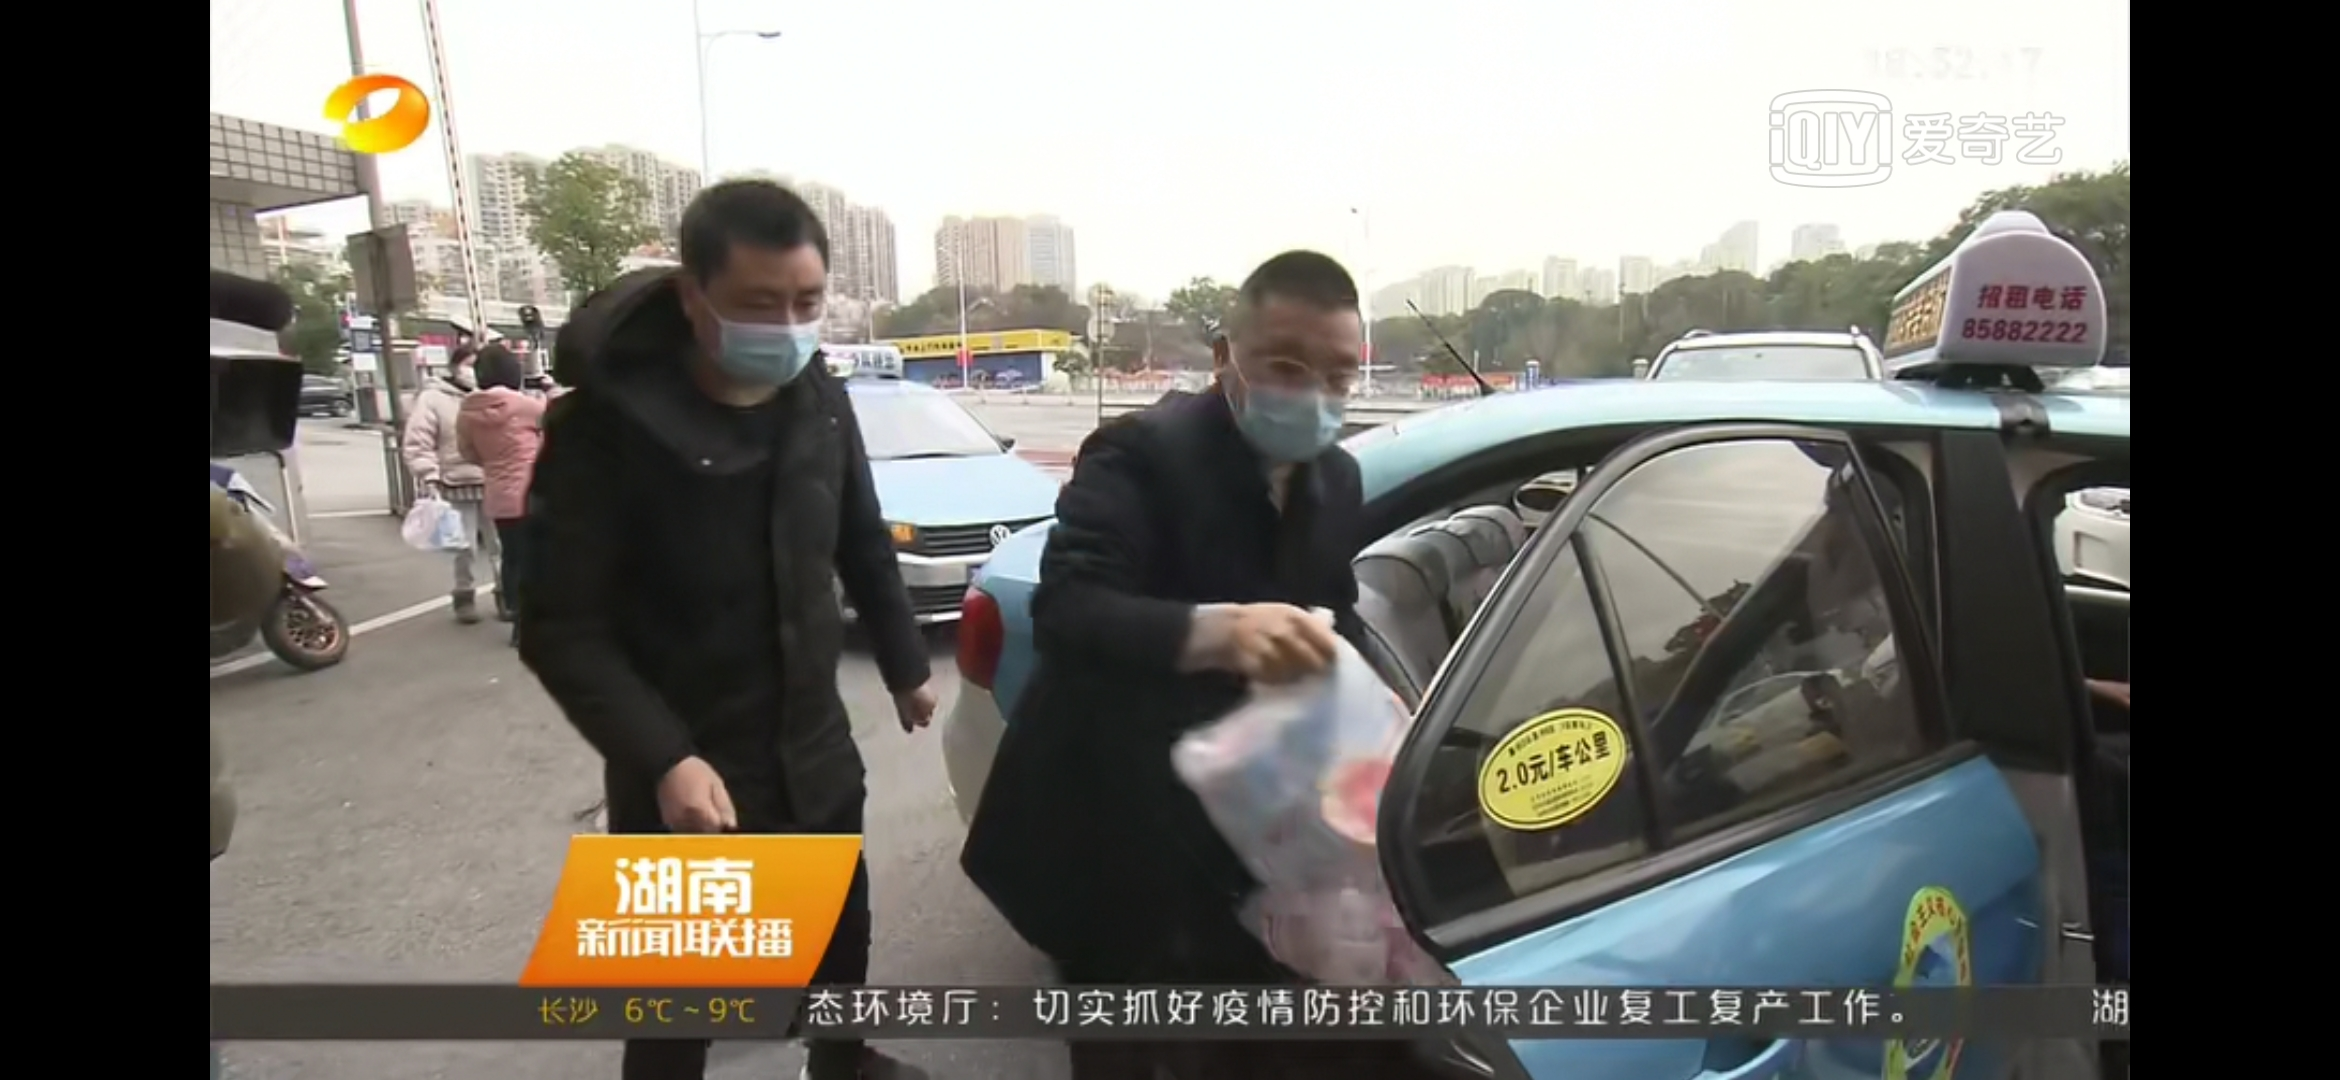correctlyWear: (678, 251, 833, 394), (1209, 327, 1361, 462), (452, 354, 478, 388)
